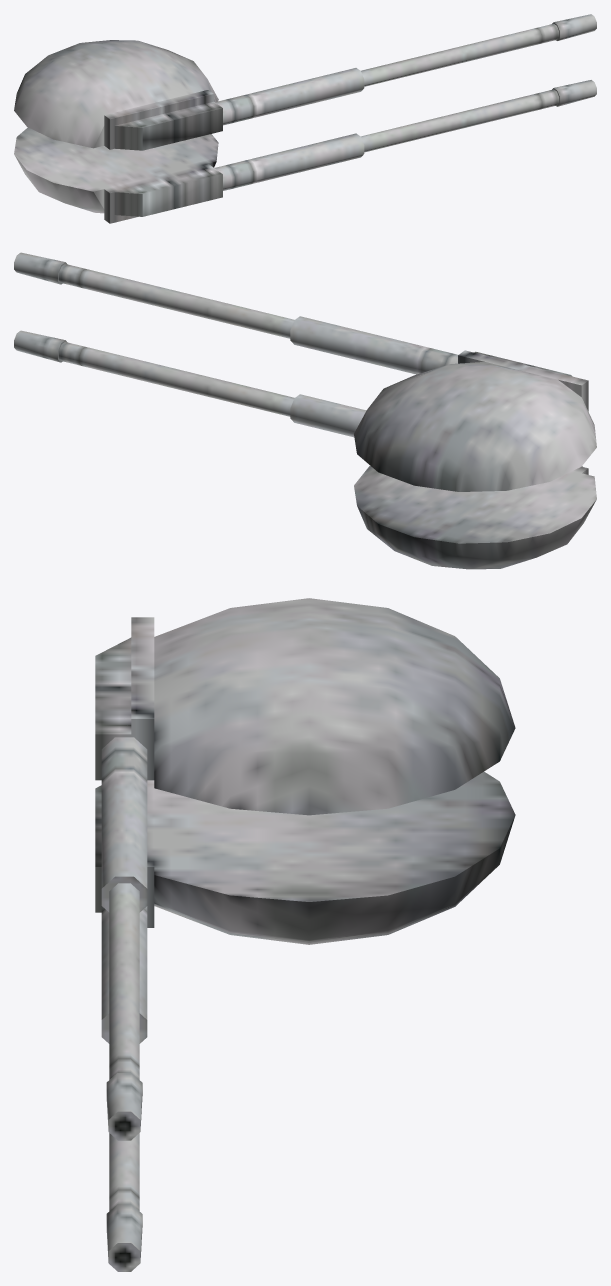
File: lambda_r_wing_guns.fbx
3 views of the same model, one above another, from view 1: azimuth 30°, elevation 25°; view 2: azimuth 150°, elevation 25°; view 3: azimuth 270°, elevation 25° (orthographic). The views are drawn at different scales.
Parts seen in each view (by area): view 1: mesh_node; view 2: mesh_node; view 3: mesh_node.
Boxes of the visible parts, x1,y1,x2,y2 form: mesh_node: (14, 14, 596, 223); mesh_node: (14, 252, 596, 569); mesh_node: (95, 598, 515, 1271).
Bounding box in the file's own units: 5.28 × 1.39 × 1.85.
